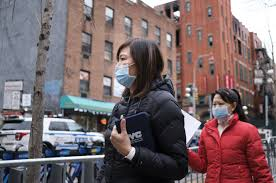surgical: (110, 61, 135, 90), (208, 106, 233, 120)
